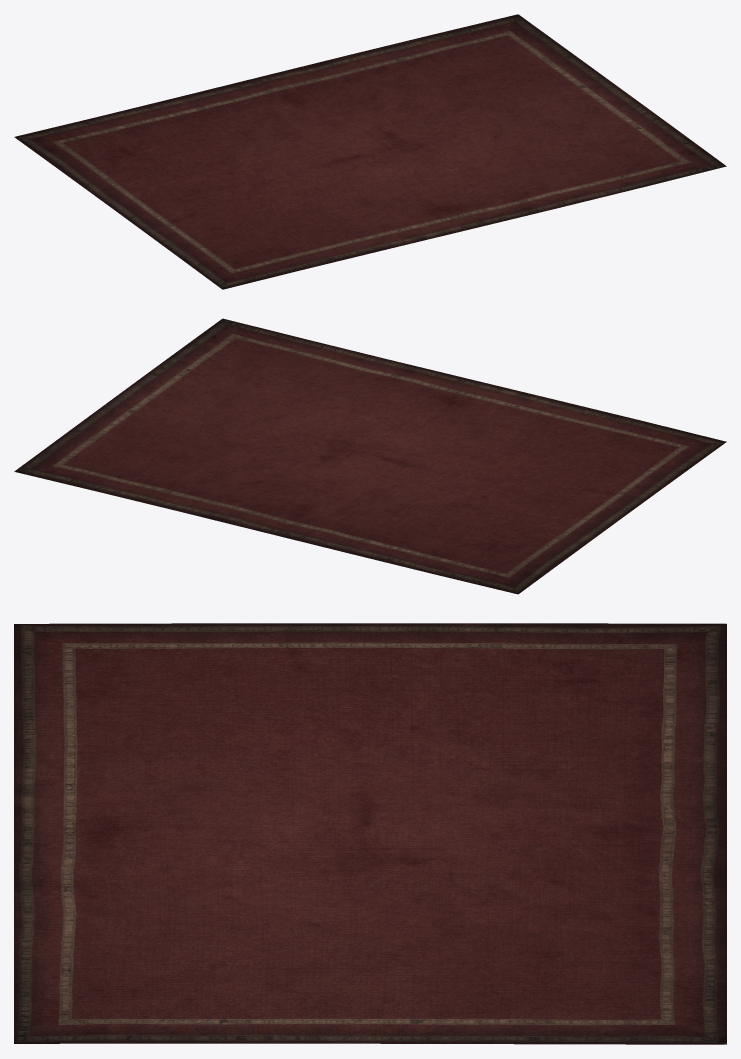
File: rug.glb
3 views of the same model, one above another, from view 1: azimuth 30°, elevation 25°; view 2: azimuth 150°, elevation 25°; view 3: azimuth 270°, elevation 25° (orthographic). The views are drawn at different scales.
Visible parts, largest first — view 1: rug; view 2: rug; view 3: rug.
Boxes of the visible parts, x1,y1,x2,y2 form: rug: (14, 14, 726, 289); rug: (14, 318, 726, 594); rug: (14, 623, 726, 1044).
Bounding box in the file's own units: 2.4 × 0.00331 × 1.72.
Materials: 1 (1 with a texture image).
